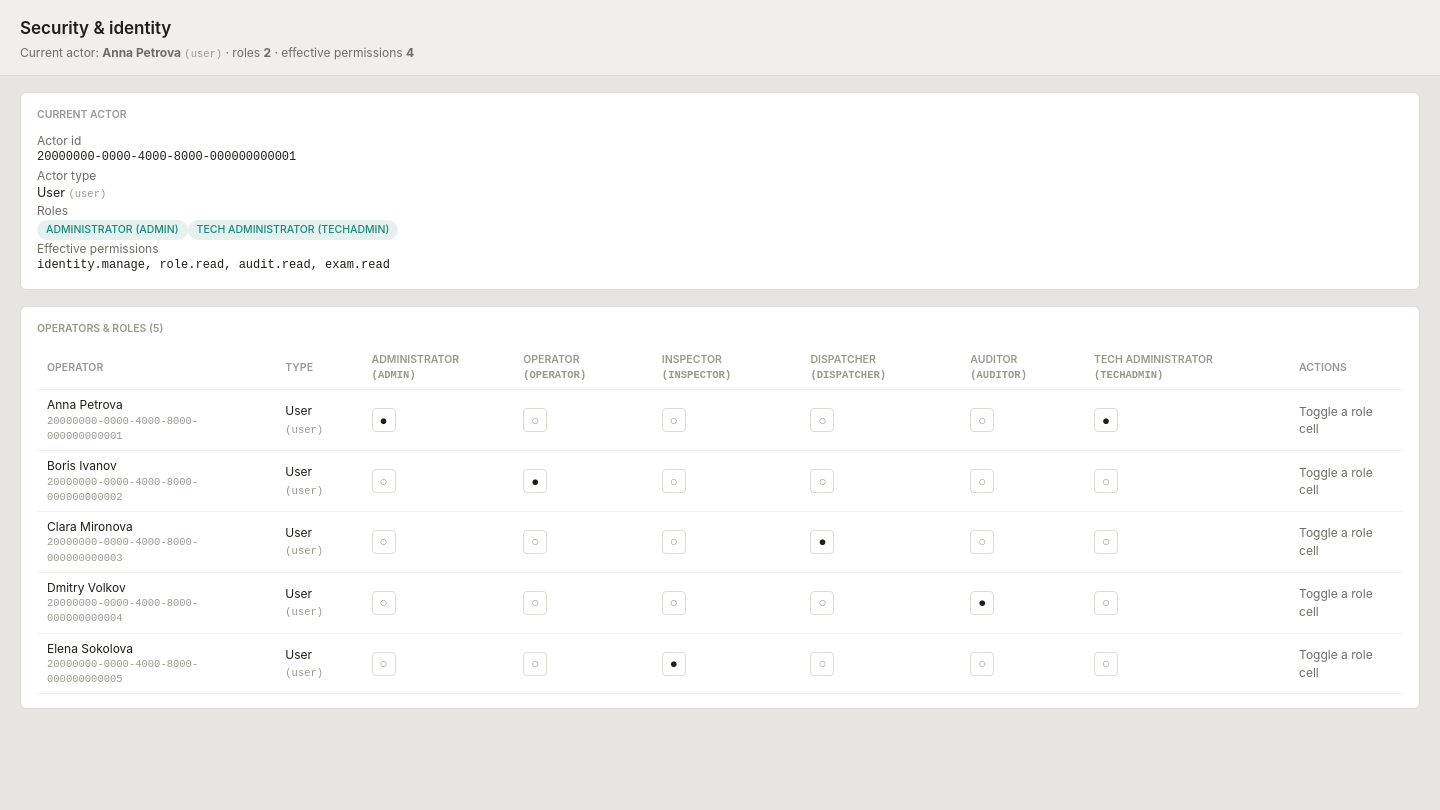
Test: SecurityScreen live role management › assigns a role through the canonical action and applies the returned set
Expected: the heading "Security & identity" is shown, [20, 18, 171, 38]
Click the button named "assign role inspector to Boris Ivanov" at x=674, y=481, box [662, 469, 686, 493]
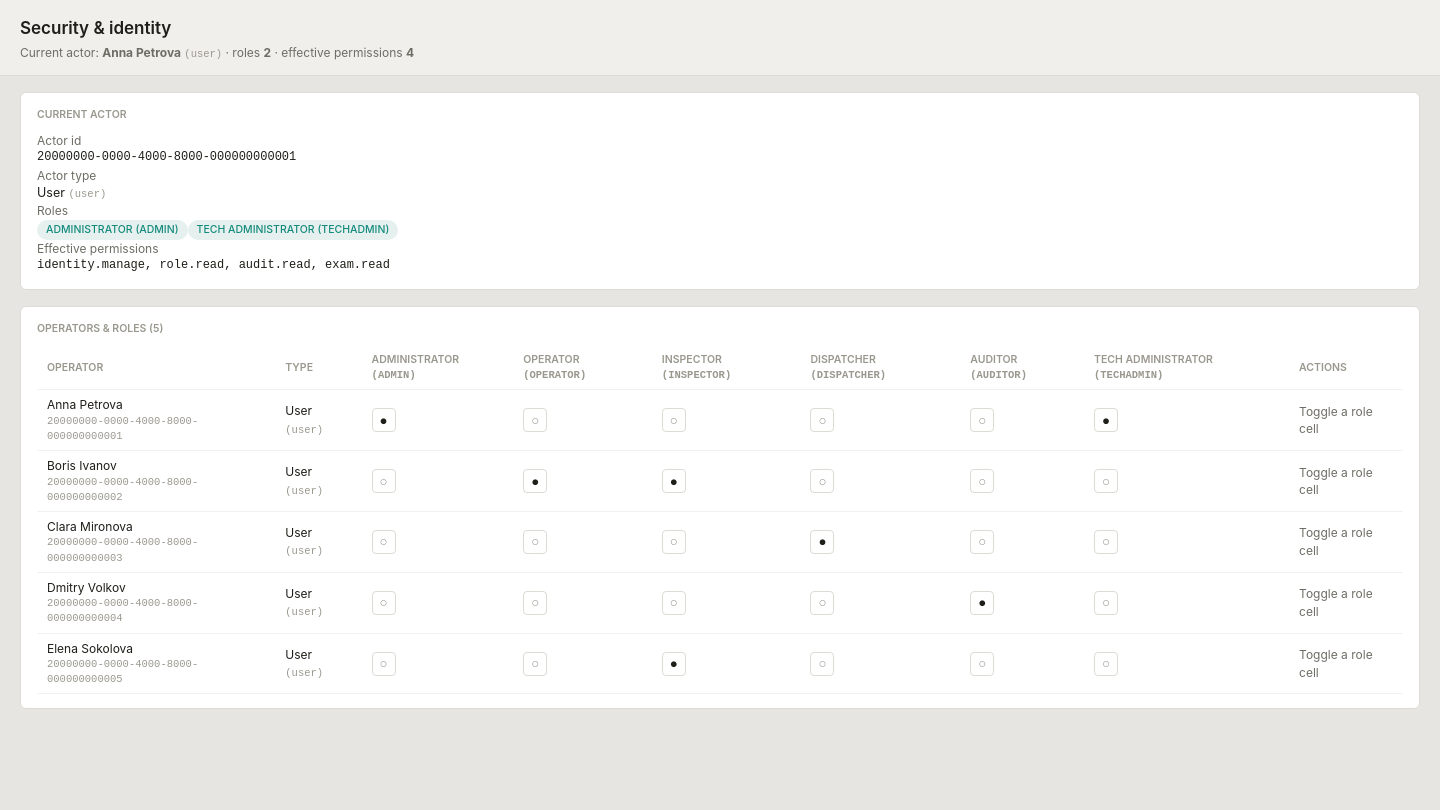
Result: the button named "revoke role inspector from Boris Ivanov" is shown at [662, 469, 686, 493]
